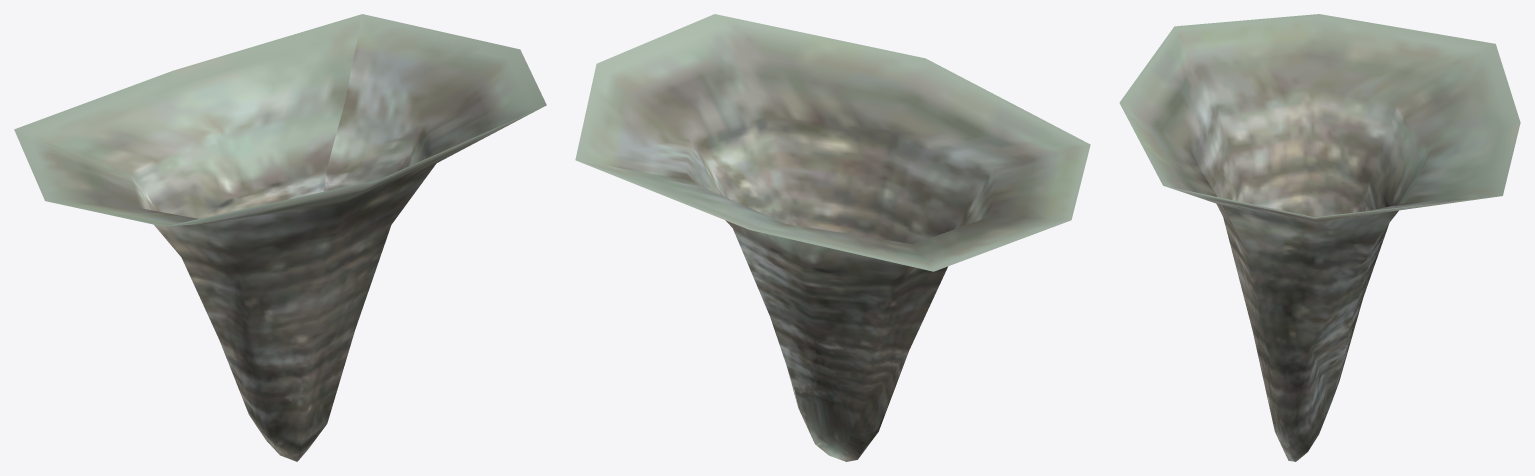
Rendered from TROLLHOLE02_PS-MAINSTALAG71.fbx.
3 views of the same model, side by side, from view 1: azimuth 30°, elevation 25°; view 2: azimuth 150°, elevation 25°; view 3: azimuth 270°, elevation 25° (orthographic). The views are drawn at different scales.
Parts seen in each view (by area): view 1: TROLLHOLE02_PS-MAINSTALAG71; view 2: TROLLHOLE02_PS-MAINSTALAG71; view 3: TROLLHOLE02_PS-MAINSTALAG71.
Part boxes in pixels (left/top/right/bottom): TROLLHOLE02_PS-MAINSTALAG71: left=14, top=14, right=546, bottom=461; TROLLHOLE02_PS-MAINSTALAG71: left=575, top=14, right=1090, bottom=461; TROLLHOLE02_PS-MAINSTALAG71: left=1119, top=14, right=1520, bottom=461.
Bounding box in the file's own units: 29804 × 21310 × 20788.
Materials: 1 (1 with a texture image).
